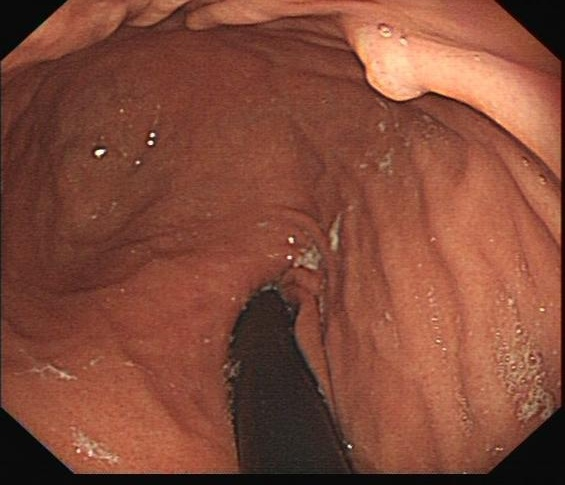Polyp: (350, 33, 429, 105)
